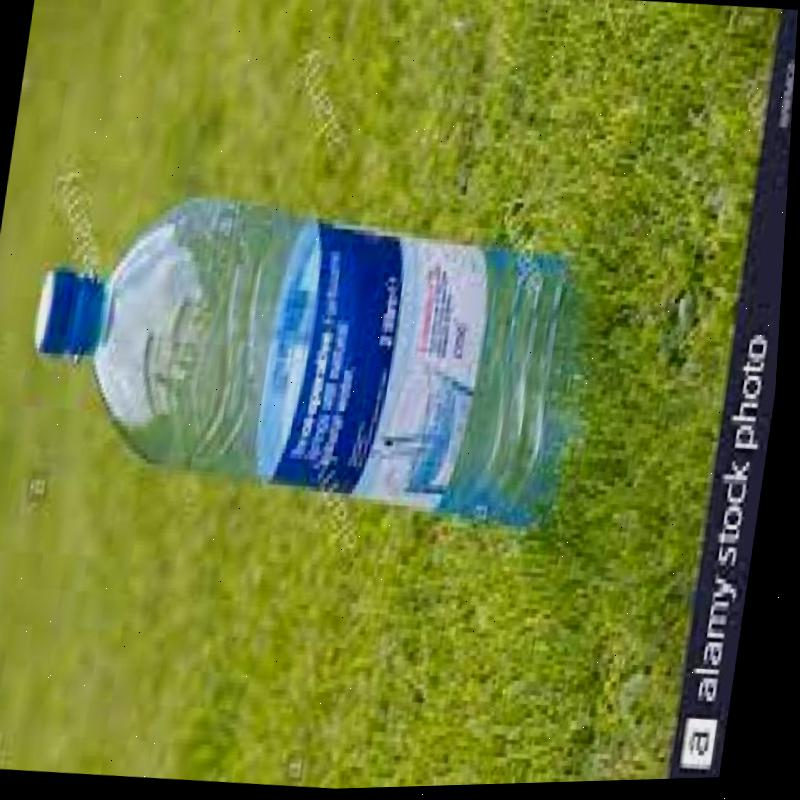botella: (11, 170, 615, 553)
